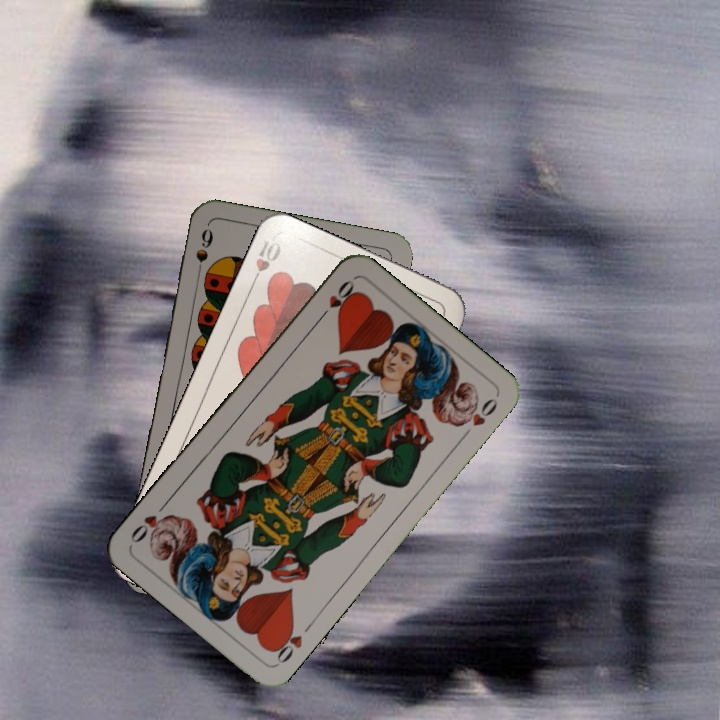H10: (246, 236, 284, 291)
HO: (266, 618, 316, 667), (314, 276, 357, 324)
S9: (191, 225, 216, 282)
